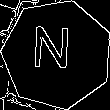N_S: (36, 28, 79, 80)
